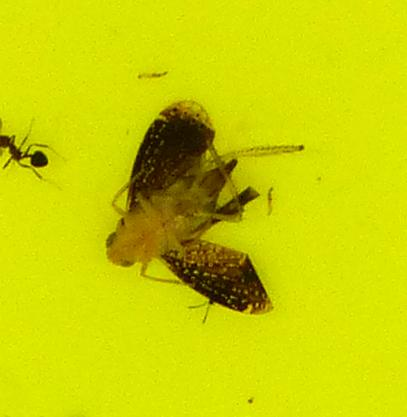Hemiptera: (100, 100, 307, 317)
